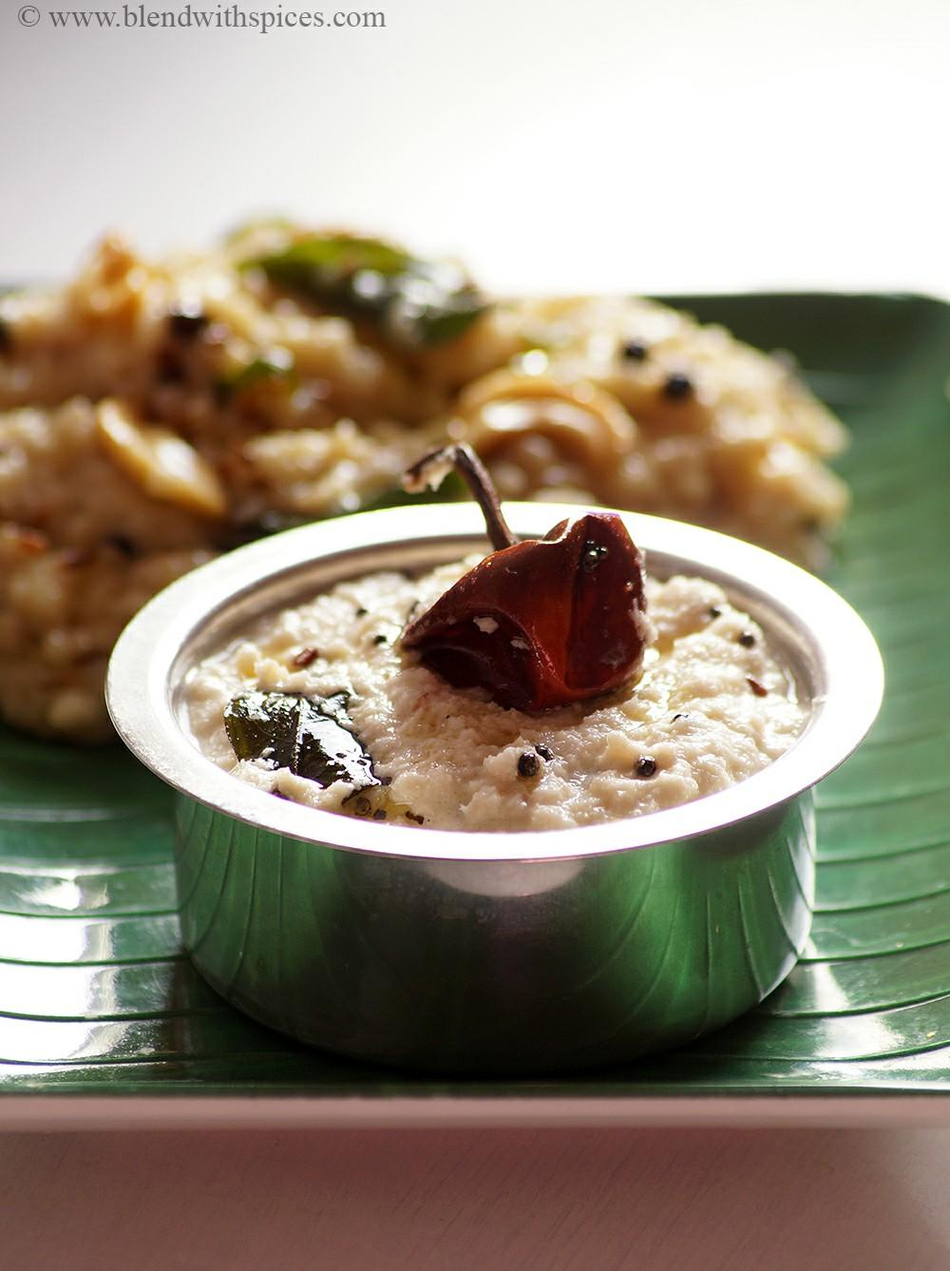CoconutChutney: (169, 532, 826, 837)
